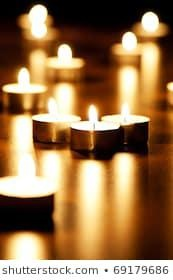fire: (85, 102, 98, 126)
